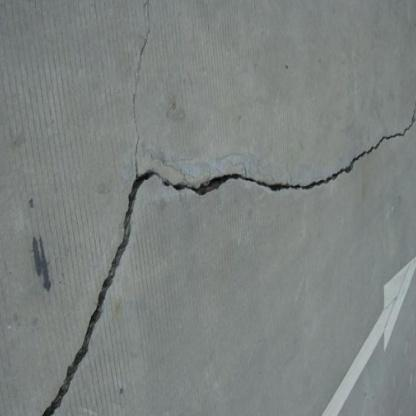Cracks: (29, 69, 416, 416), (130, 84, 143, 125), (136, 35, 153, 64)
